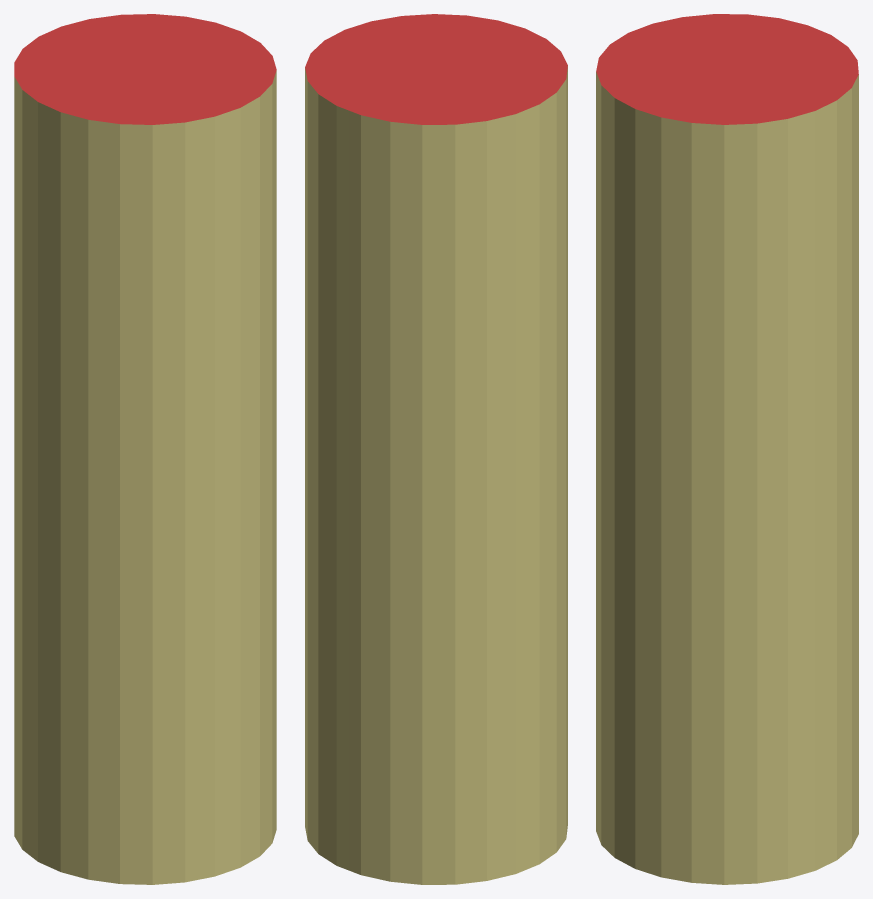
The picture shows the model from 3 angles, left to right: view 1: azimuth 30°, elevation 25°; view 2: azimuth 150°, elevation 25°; view 3: azimuth 270°, elevation 25°; orthographic projection.
Size of the model in its own units: 3.22 by 3.22 by 10.26.
